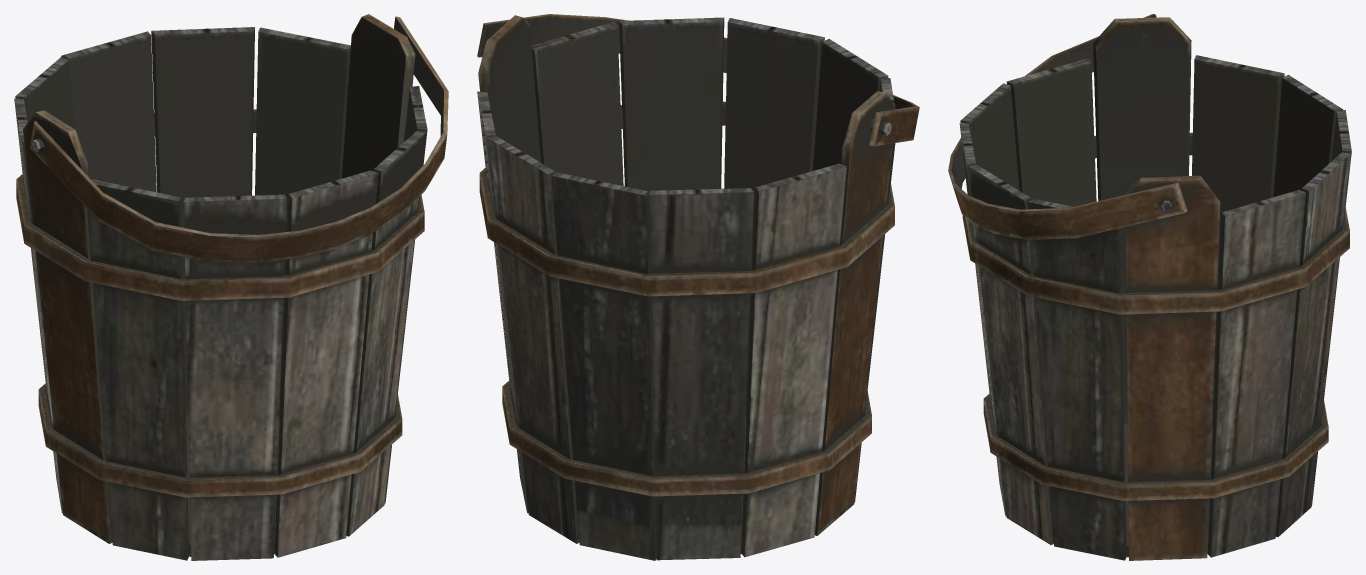
File: bucket.glb
The picture shows the model from 3 angles, left to right: view 1: azimuth 30°, elevation 25°; view 2: azimuth 150°, elevation 25°; view 3: azimuth 270°, elevation 25°; orthographic projection. The views are drawn at different scales.
Parts seen in each view (by area): view 1: 03_03_0; view 2: 03_03_0; view 3: 03_03_0.
Part boxes in pixels (<box>): 03_03_0: <box>14,14,448,560</box>; 03_03_0: <box>477,14,919,560</box>; 03_03_0: <box>948,14,1351,560</box>.
Bounding box in the file's own units: 0.4499 × 0.4672 × 0.4284.
1 material, 1 textured.
